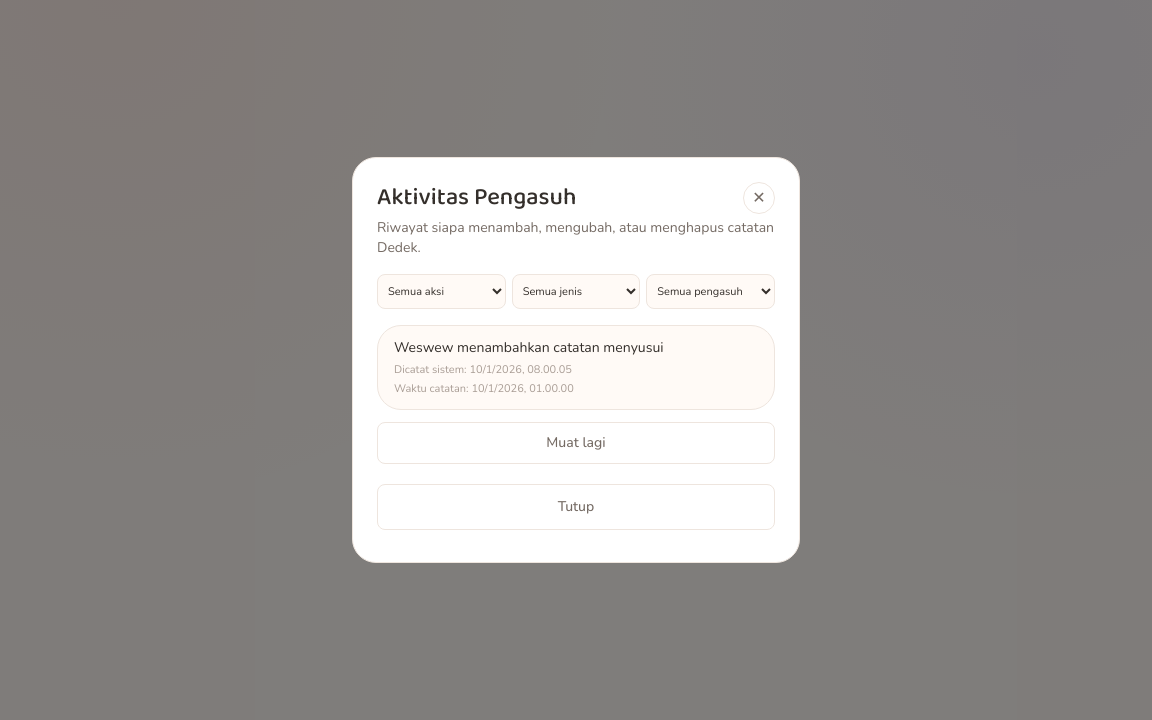
Test case: AuditTrailScreen — pagination › shows 'Muat lagi' when a next_cursor is present and appends the next page on click
The width and height of the screenshot is (1152, 720).
Expected: the text "Weswew menambahkan catatan menyusui" is shown, [394,338,664,357]
Click the button "Muat lagi" at [576, 443], box [377,422,775,464]
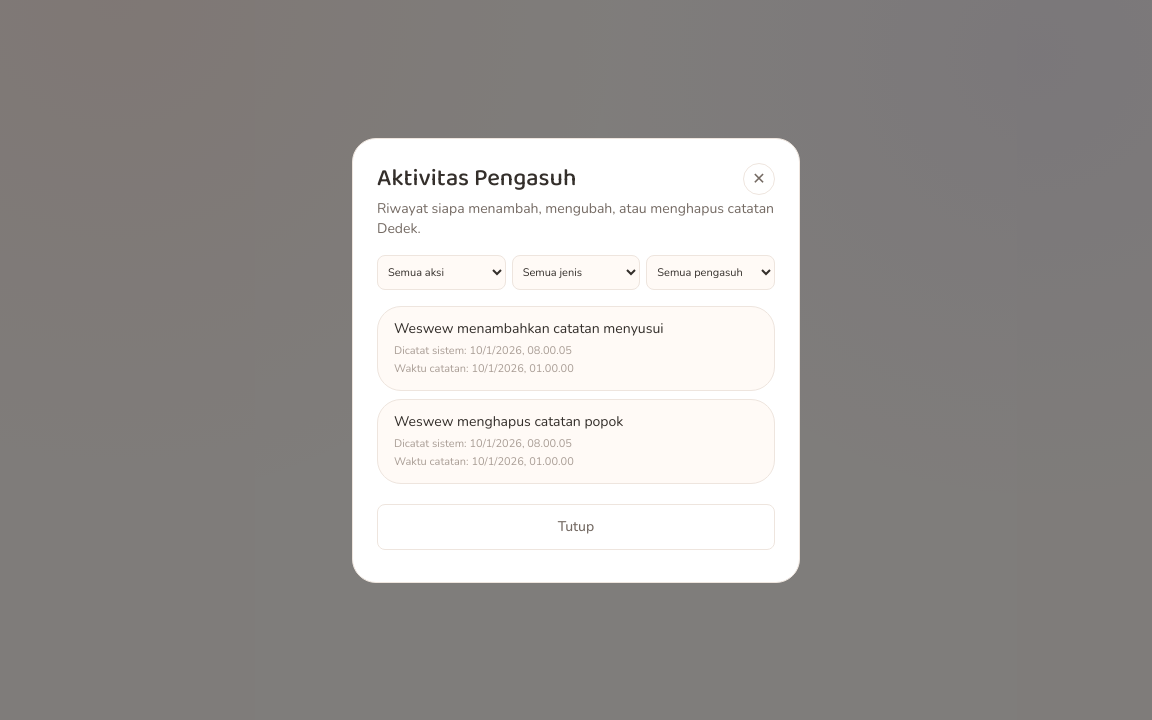
Expected: the text "Weswew menambahkan catatan menyusui" is shown, [394,318,664,338]
Expected: the text "Weswew menghapus catatan popok" is shown, [394,412,623,430]
Expected: the button "Muat lagi" is gone
